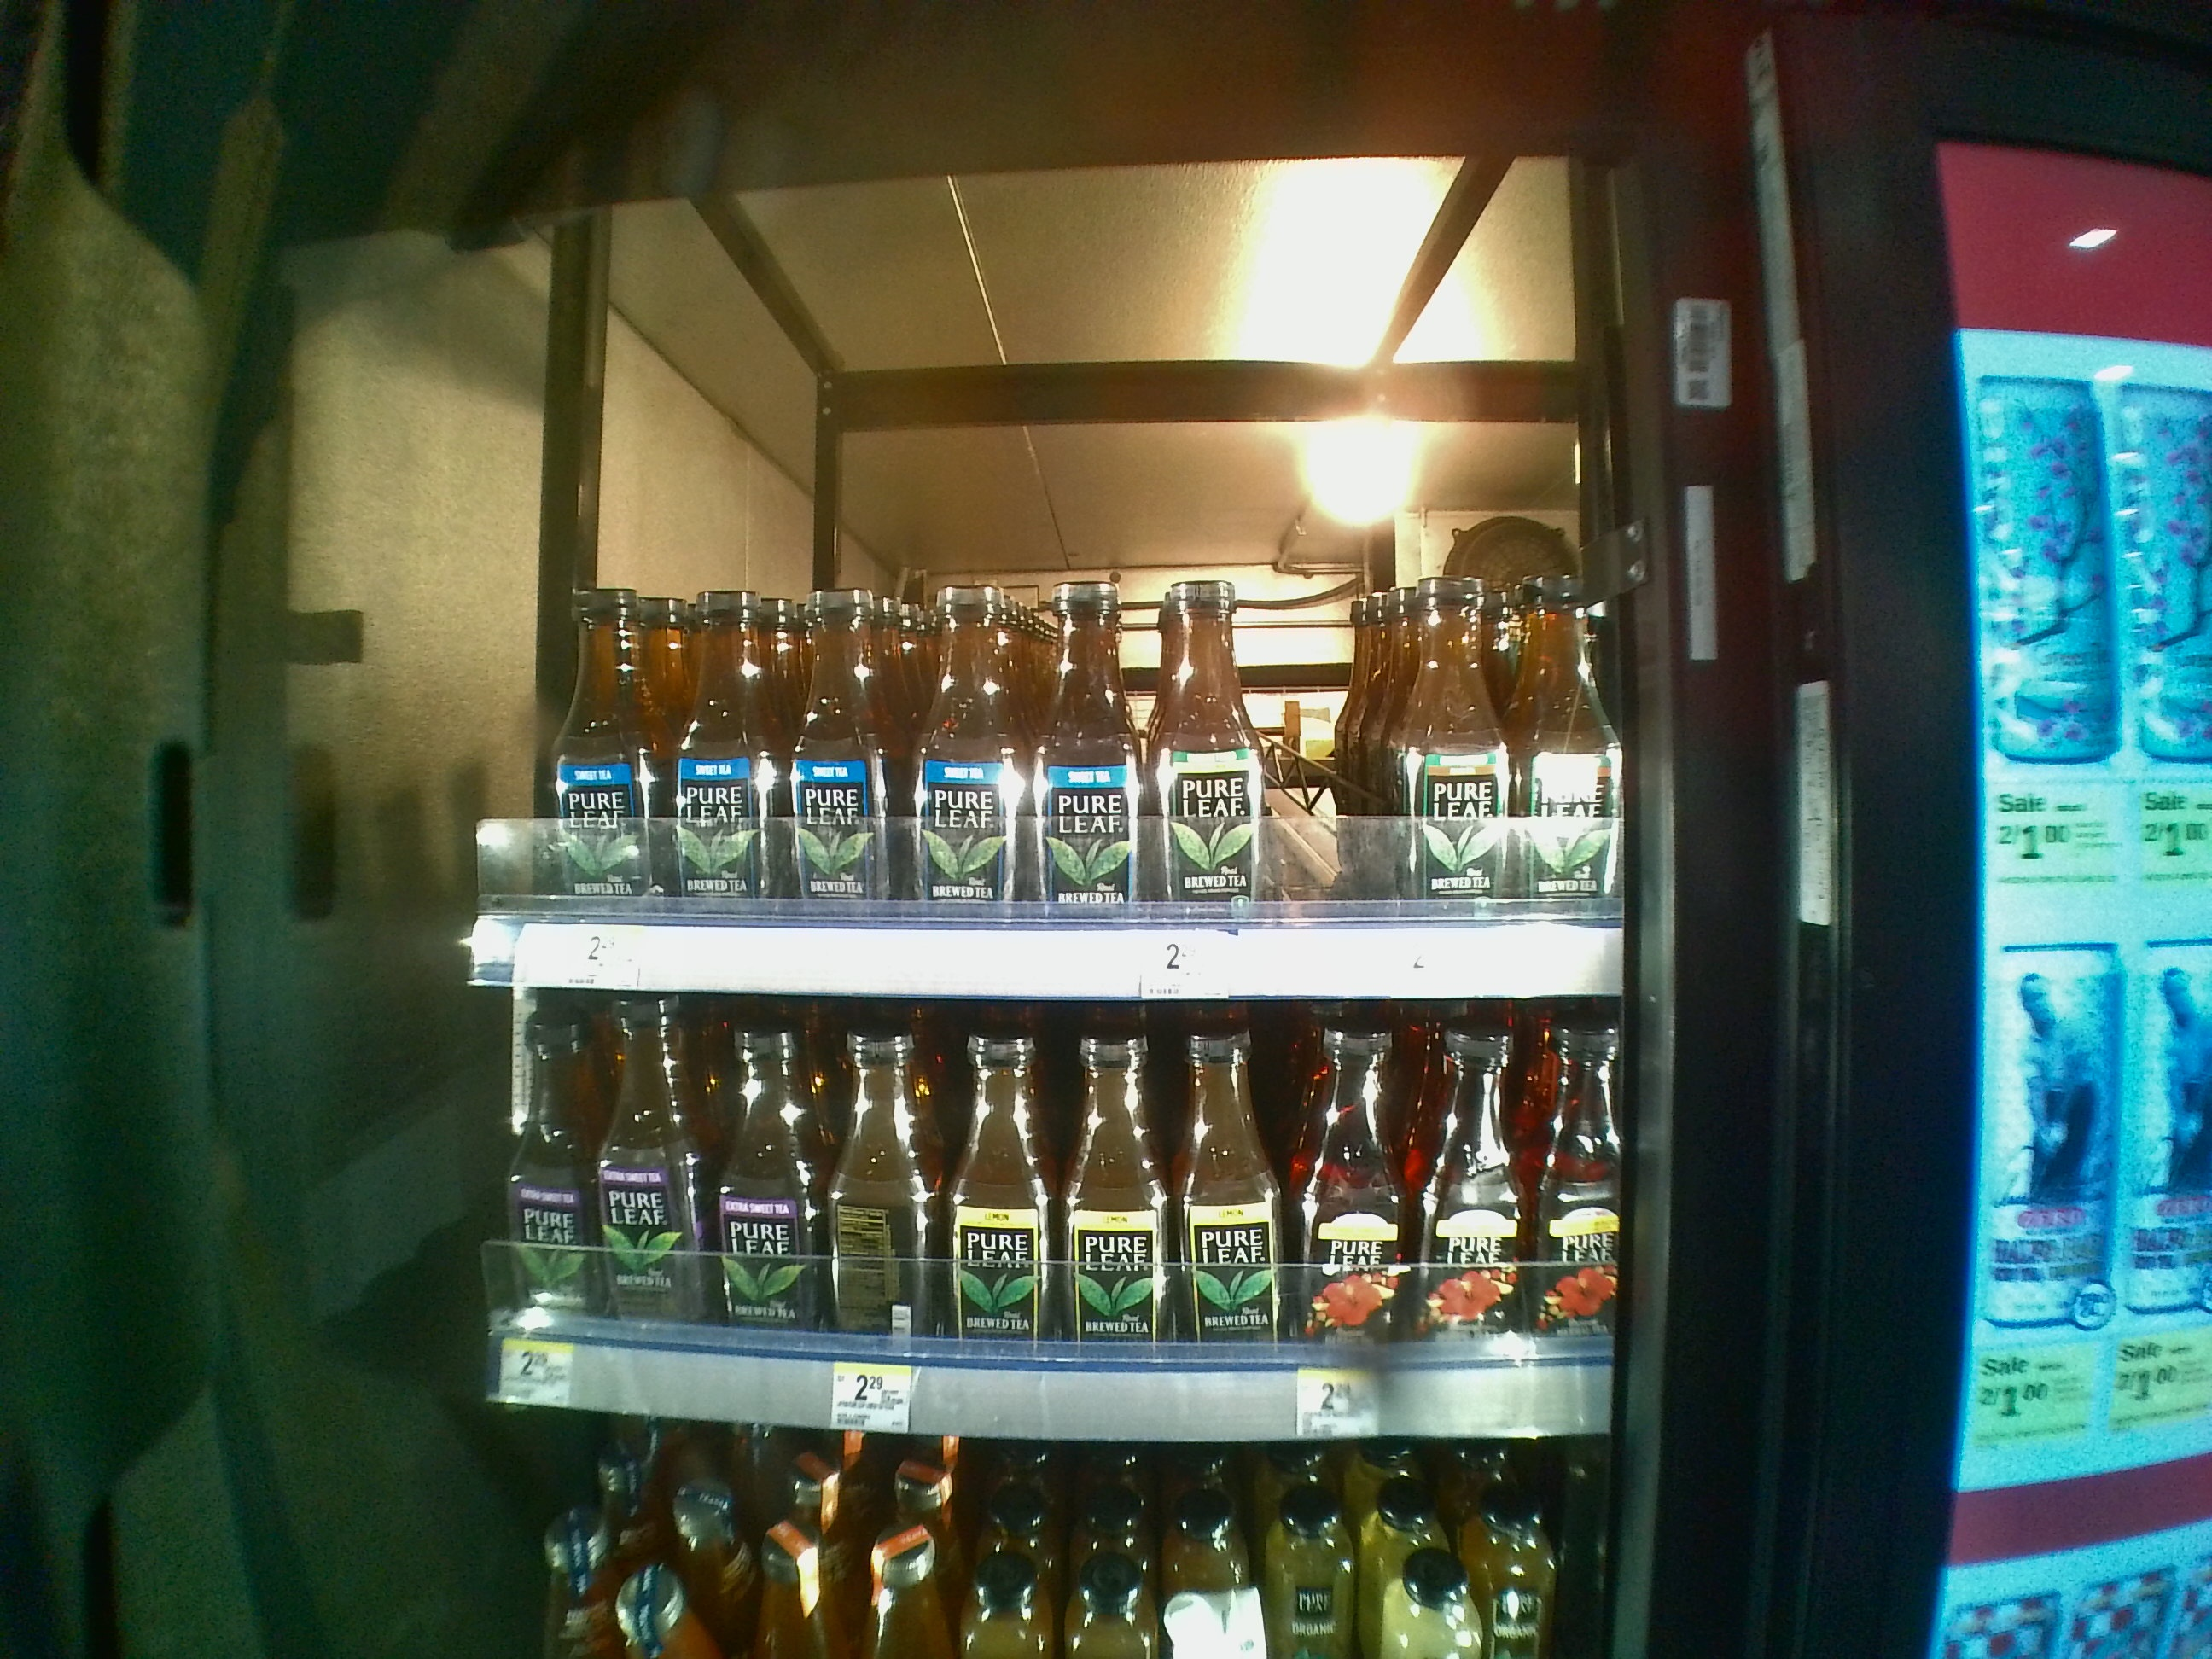shelf: (456, 193, 1616, 988), (444, 1007, 1623, 1441)
